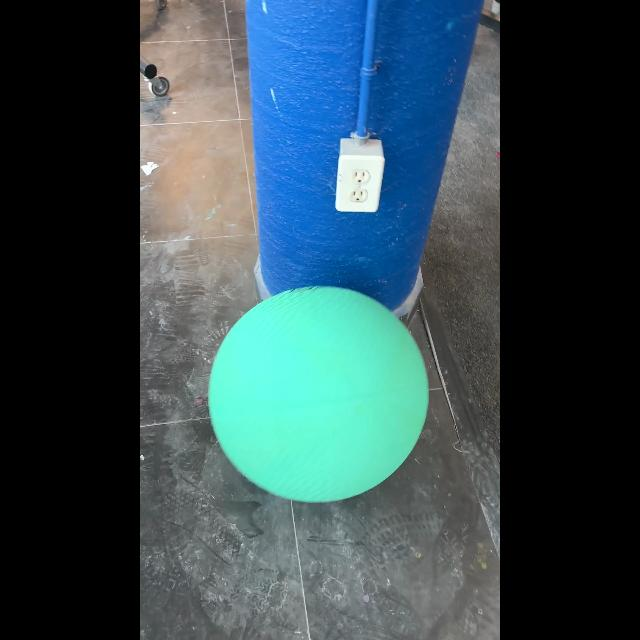ALGAE: (206, 284, 430, 503)
